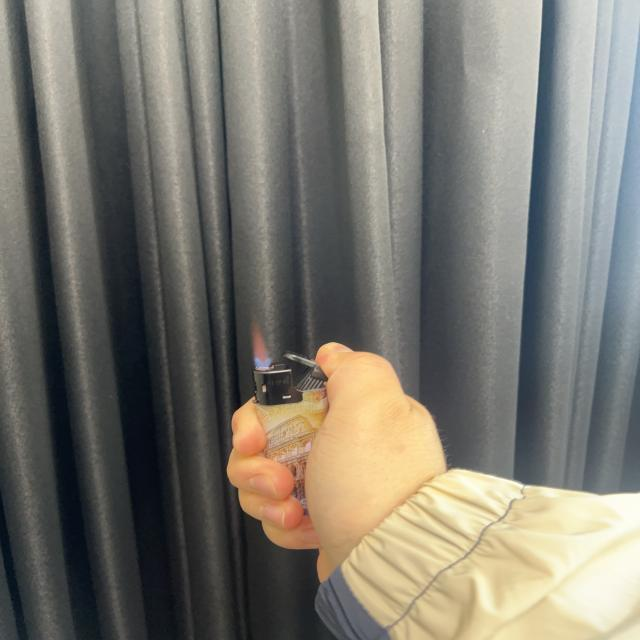fire: (250, 322, 274, 368)
